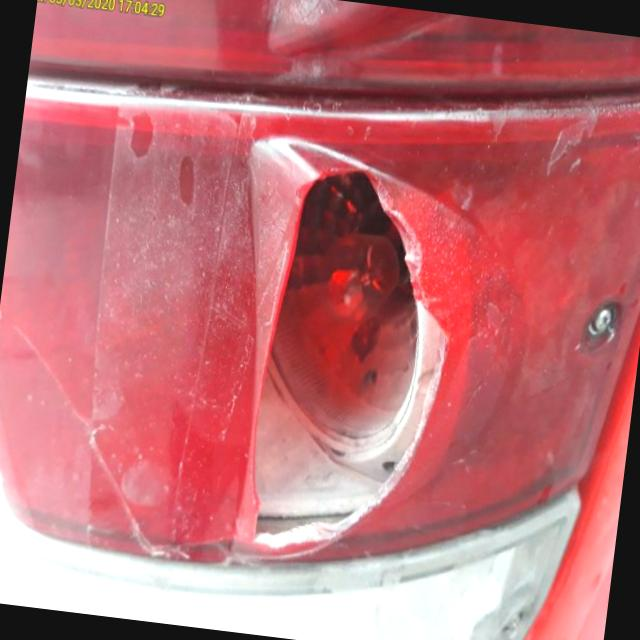Phare abime: (224, 142, 490, 596)
